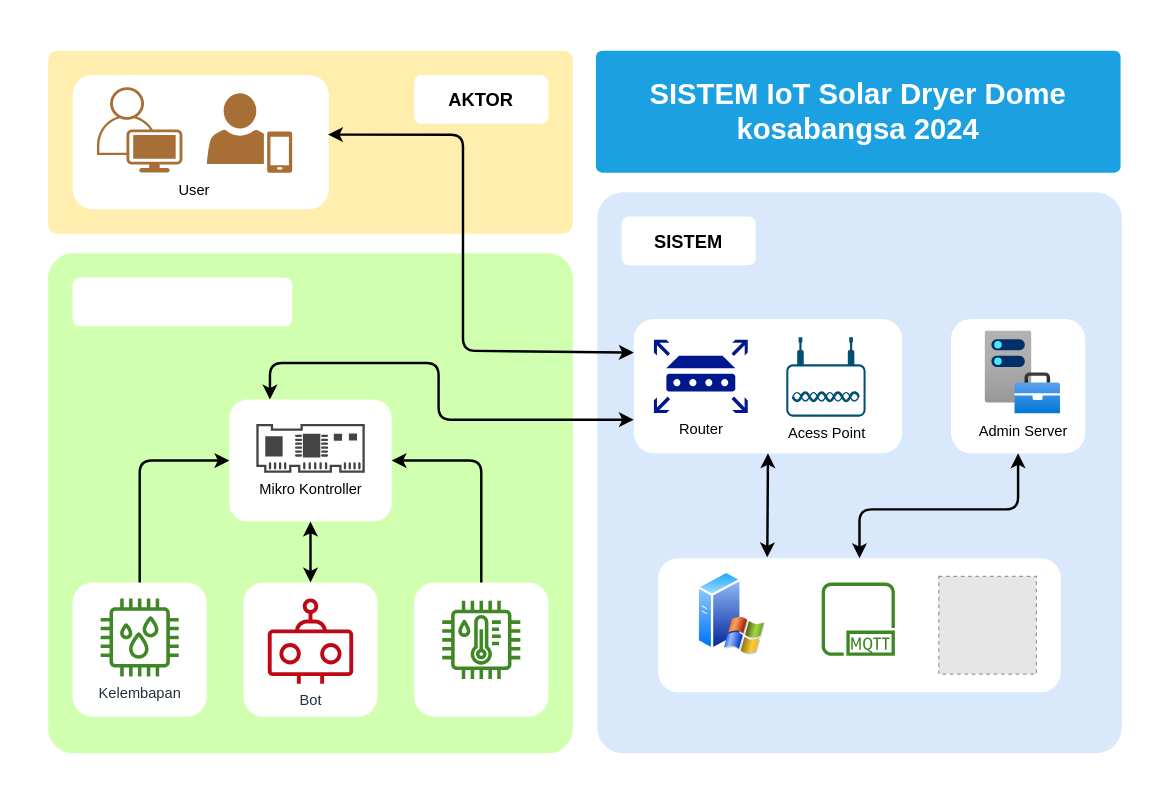
This 1164x798 diagram has some shape labels left out. Grey dashed boxes stand in for pictures. Each missing label, with the centre of its shape:
MQTT Broker: the point at 857,618
RUMAH PENGERING: the point at 182,301
Suhu: the point at 481,639
Windows Server: the point at 731,612
